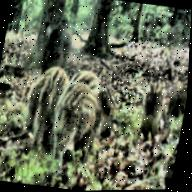boar: (48, 83, 123, 166)
